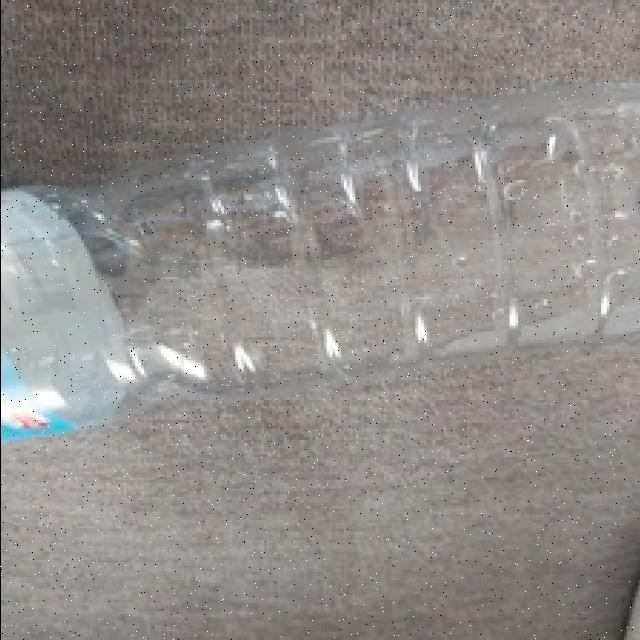plastic: (0, 66, 637, 454)
